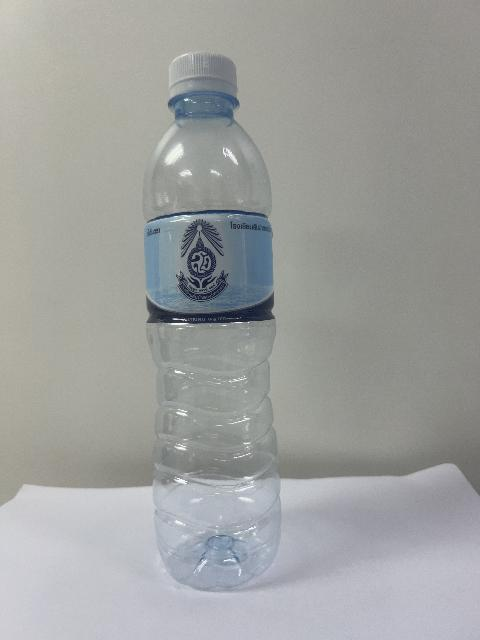bottle: (144, 53, 280, 589)
